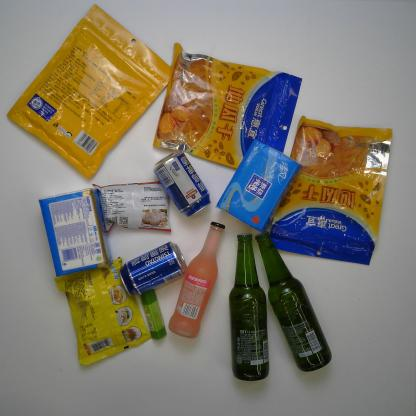Alcohol: (255, 230, 333, 373), (167, 220, 226, 340), (228, 233, 270, 382), (152, 149, 212, 218), (119, 240, 188, 298)
Dried Fruit: (5, 2, 172, 181), (151, 41, 304, 172), (269, 114, 393, 267)
Instant Noodles: (53, 256, 153, 368)
Seasoner: (92, 180, 173, 235)
Stationery: (140, 288, 168, 340)
Tissue: (214, 140, 304, 234), (38, 186, 114, 278)
